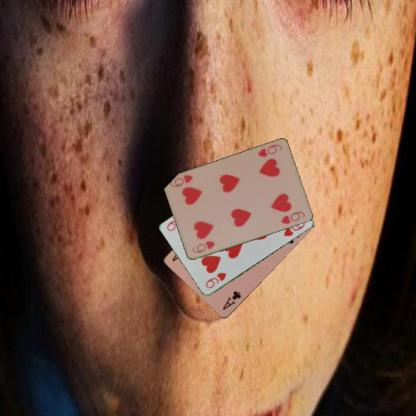6h: (188, 238, 216, 255), (255, 142, 283, 158)
9h: (203, 270, 228, 290)
Ac: (220, 288, 242, 312)
